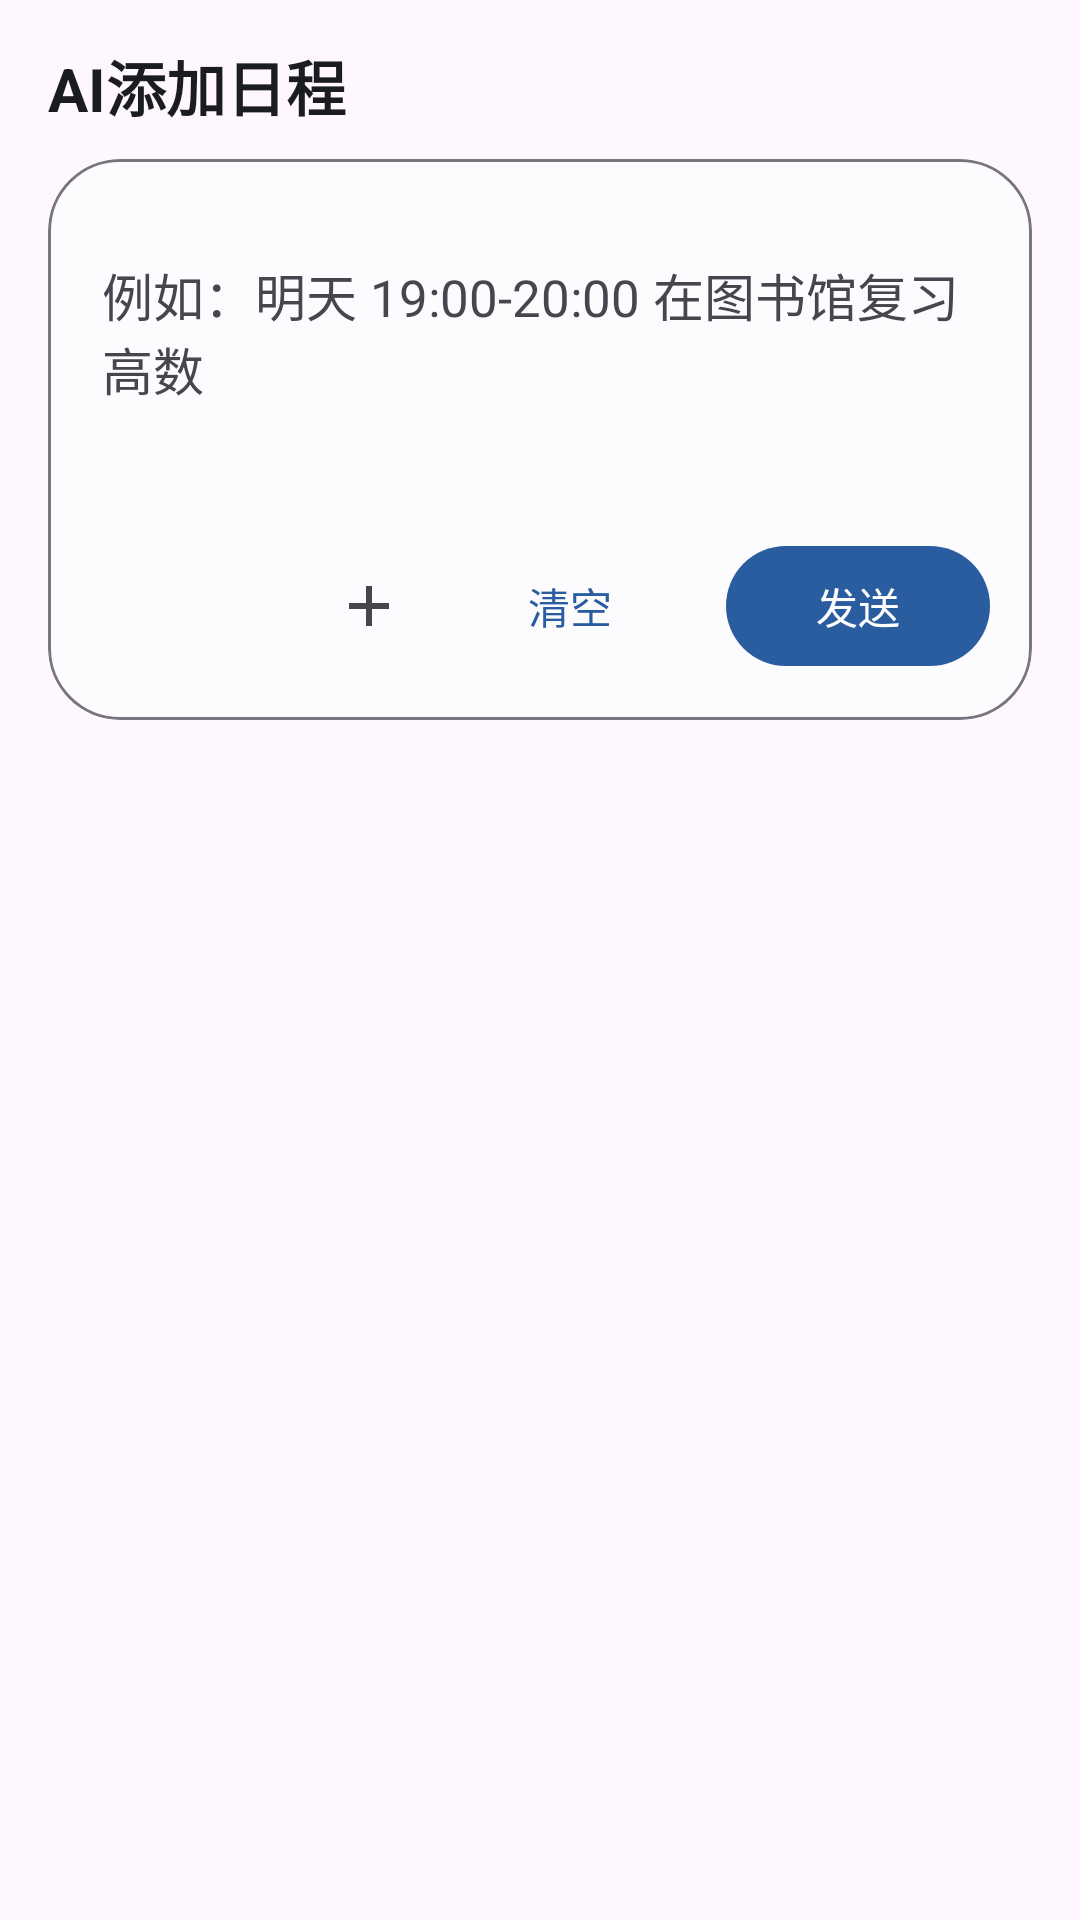

Icons on this 1080*1920 Android screen, each with the point to tap as [x,y]:
添加图片（长按清除）: [369,606]
